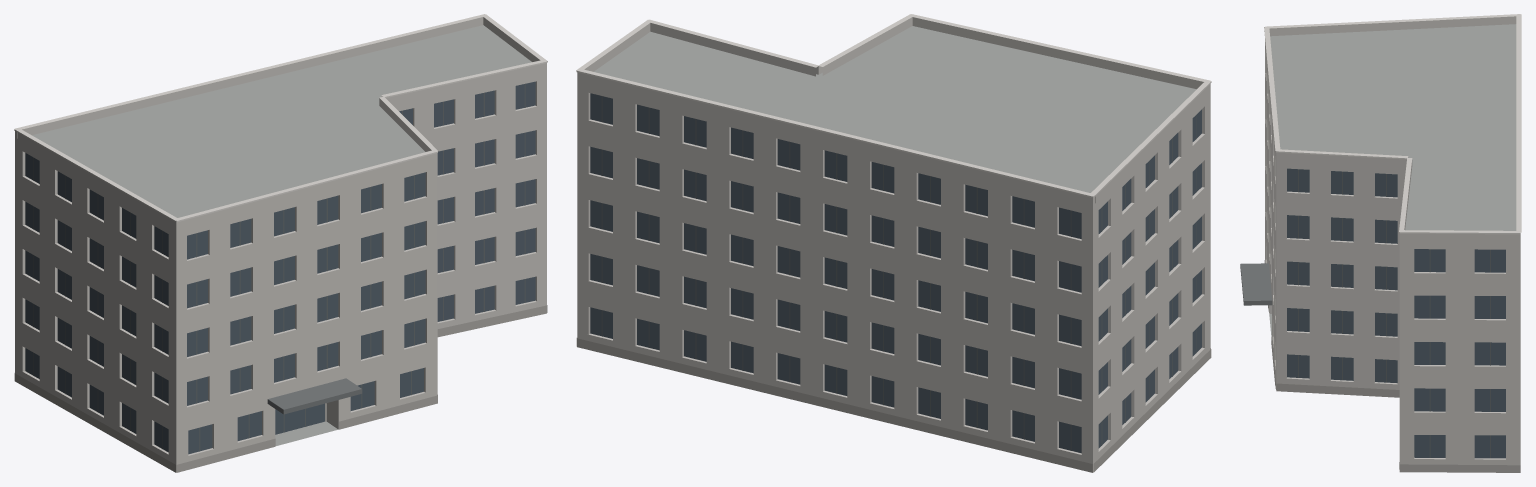
3 renders of one model, left to right at view 1: azimuth 30°, elevation 25°; view 2: azimuth 150°, elevation 25°; view 3: azimuth 270°, elevation 25°, orthographic. The views are drawn at different scales.
Visible parts, largest first — view 1: architecture__wall, architecture__roof, architecture__glass, architecture__parapet, architecture__trim, architecture__base, architecture__frame, architecture__canopy; view 2: architecture__wall, architecture__roof, architecture__glass, architecture__parapet, architecture__base, architecture__trim, architecture__frame; view 3: architecture__wall, architecture__roof, architecture__glass, architecture__trim, architecture__parapet, architecture__base, architecture__canopy, architecture__frame.
Part boxes in pixels (x1,y1,x2,y2): architecture__wall: (15, 69, 546, 472); architecture__roof: (32, 25, 531, 445); architecture__glass: (25, 81, 535, 454); architecture__parapet: (15, 17, 546, 228); architecture__trim: (14, 14, 547, 222); architecture__base: (14, 305, 547, 472); architecture__frame: (33, 83, 525, 451); architecture__canopy: (267, 378, 362, 414); architecture__wall: (577, 79, 1210, 472); architecture__roof: (594, 26, 1196, 192); architecture__glass: (590, 93, 1201, 453); architecture__parapet: (577, 17, 1210, 204); architecture__base: (576, 338, 1211, 472); architecture__trim: (576, 14, 1211, 197); architecture__frame: (601, 96, 1196, 450); architecture__wall: (1265, 39, 1520, 465); architecture__roof: (1269, 24, 1516, 340); architecture__glass: (1287, 168, 1505, 458); architecture__trim: (1264, 14, 1521, 234); architecture__parapet: (1269, 16, 1520, 240); architecture__base: (1264, 260, 1520, 472); architecture__canopy: (1240, 263, 1272, 305); architecture__frame: (1298, 169, 1490, 458).
Size of the model in its own units: 36.42 by 18.6 by 19.74.
